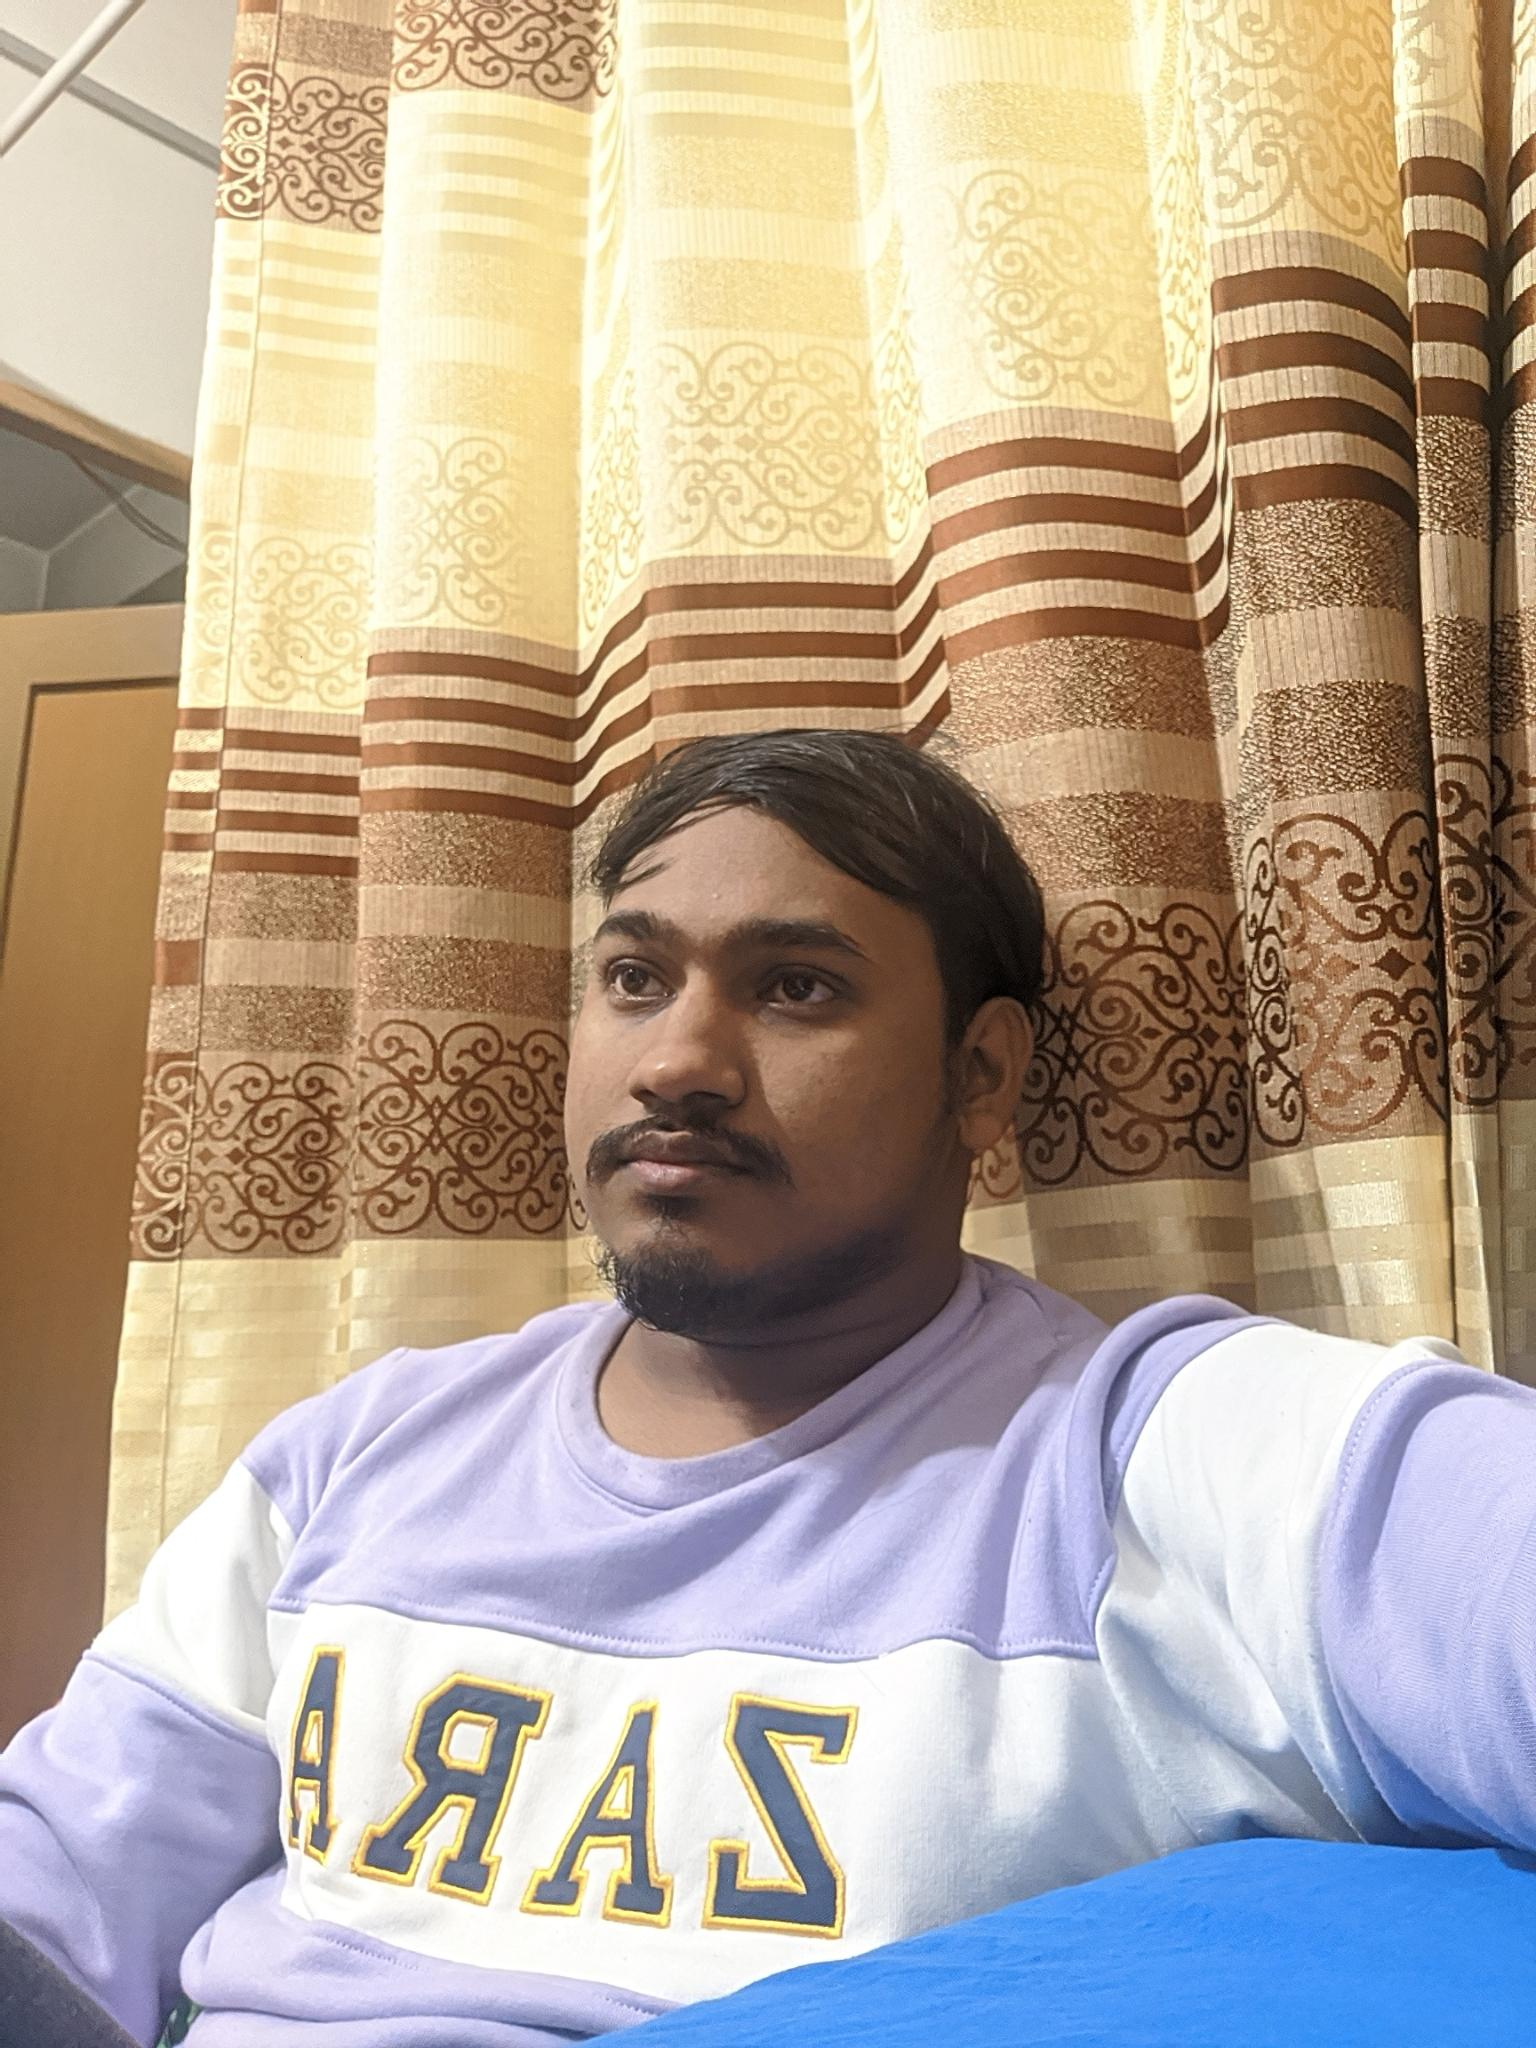Neutral: (516, 877, 886, 1297)
